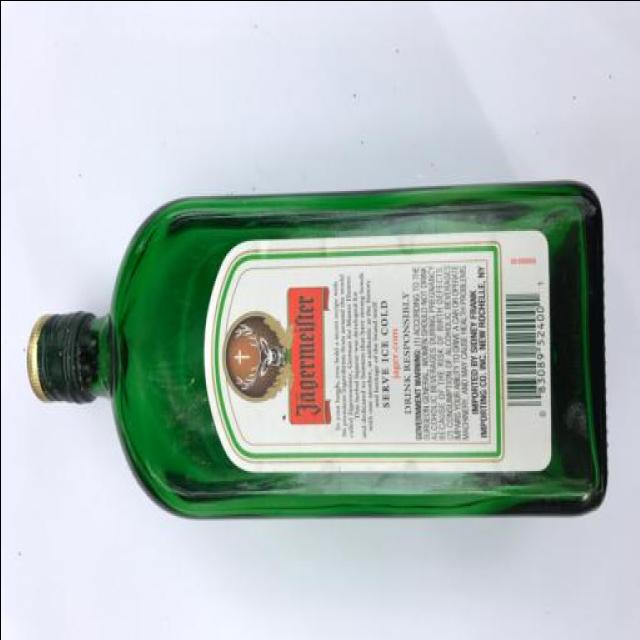glass: (23, 165, 619, 532)
